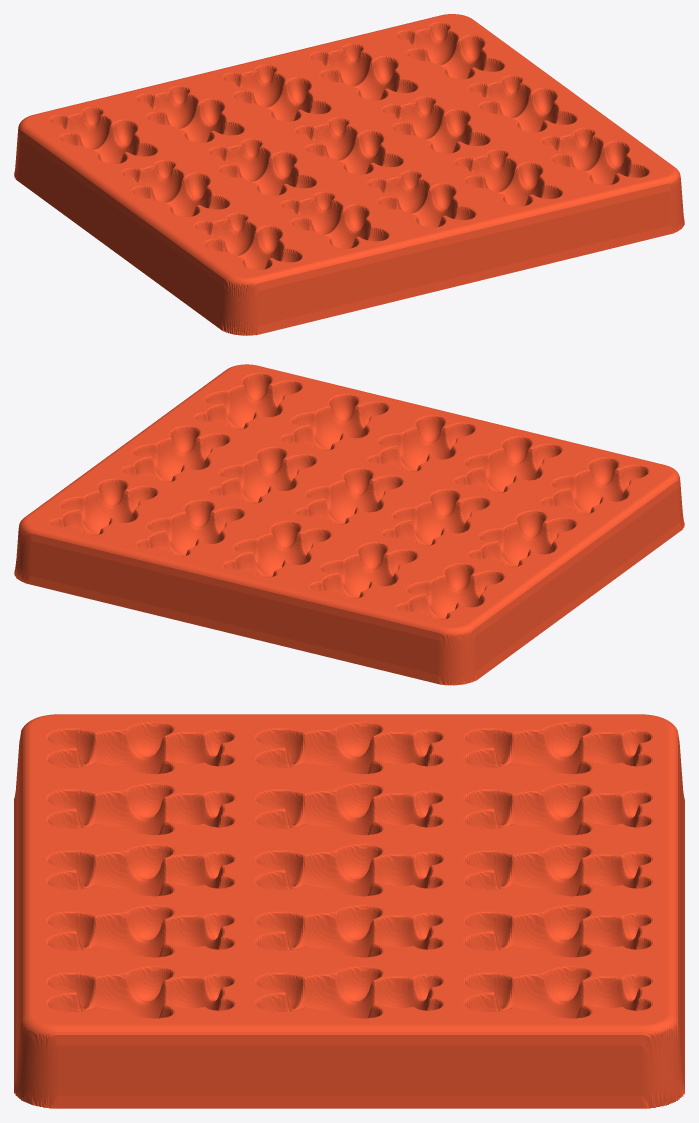
Rendered from mold.glb.
3 renders of one model, top to bottom at view 1: azimuth 30°, elevation 25°; view 2: azimuth 150°, elevation 25°; view 3: azimuth 270°, elevation 25°, orthographic. The views are drawn at different scales.
Visible parts, largest first — view 1: geometry_0; view 2: geometry_0; view 3: geometry_0.
Part boxes in pixels (x1=…): geometry_0: x1=14, y1=14, x2=684, y2=335; geometry_0: x1=14, y1=364, x2=684, y2=685; geometry_0: x1=14, y1=714, x2=684, y2=1108.
Bounding box in the file's own units: 0.1592 × 0.0175 × 0.1392.
